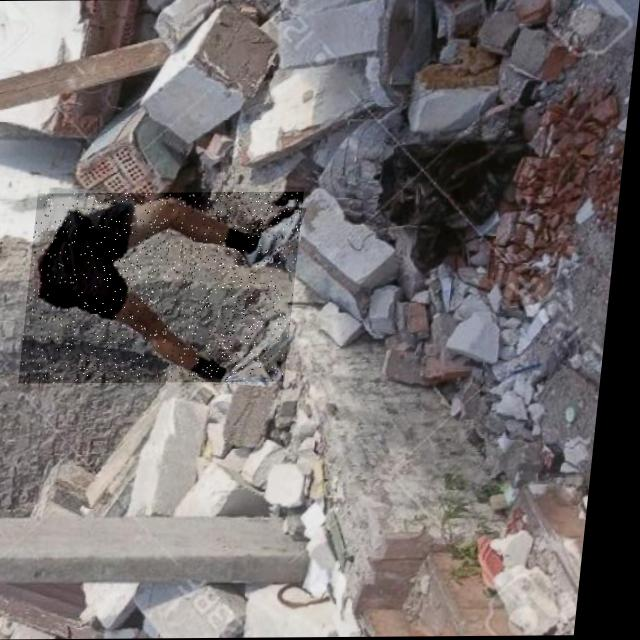Person in Rubble: (27, 191, 308, 383)
